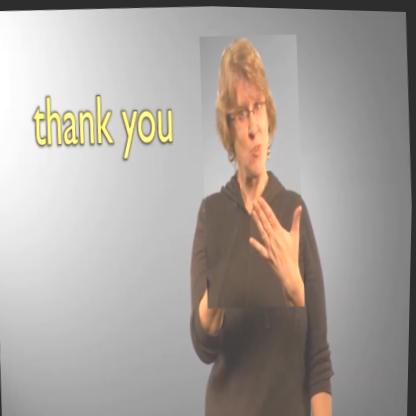ThankYou: (194, 30, 310, 309)
